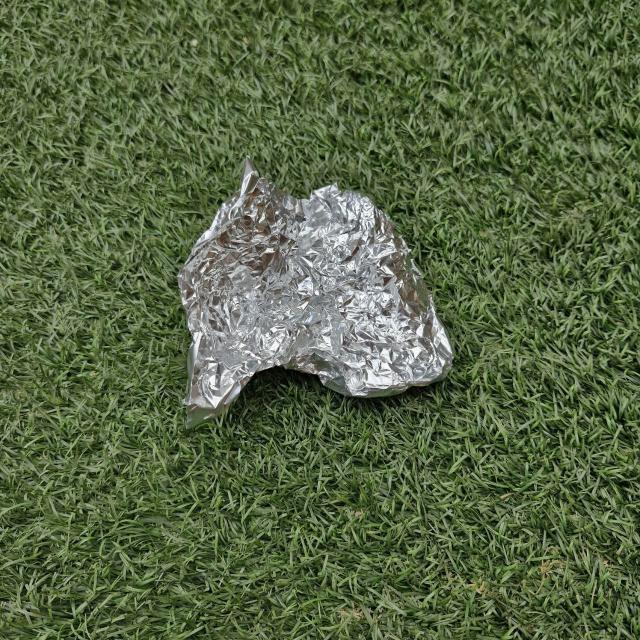metal: (166, 161, 460, 435)
